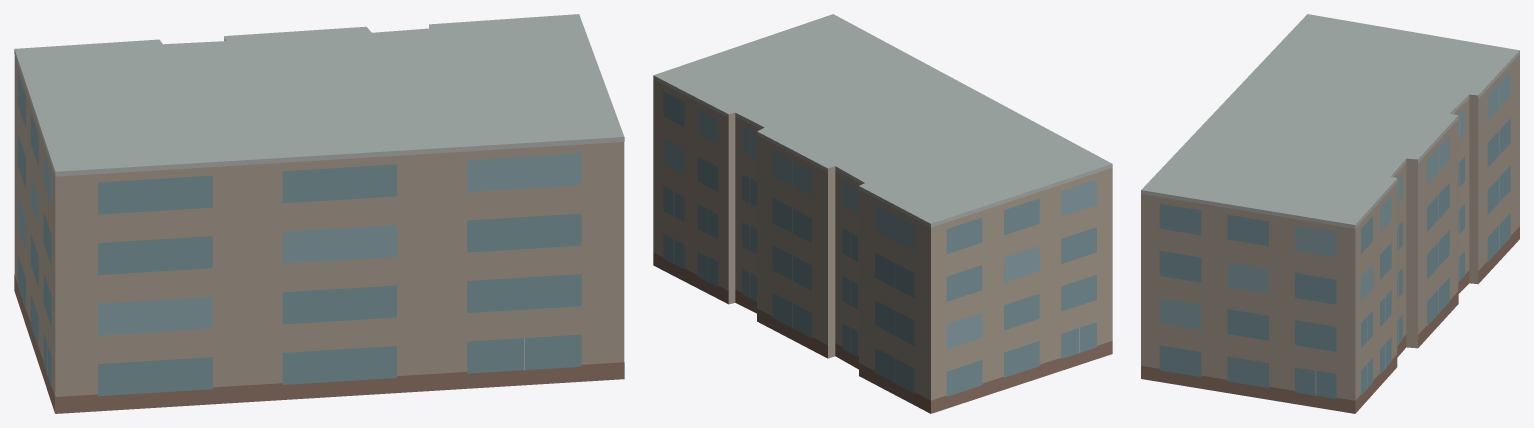
Rendered from survey-upis-32871306.glb.
3 renders of one model, left to right at view 1: azimuth 30°, elevation 25°; view 2: azimuth 150°, elevation 25°; view 3: azimuth 270°, elevation 25°, orthographic. The views are drawn at different scales.
Visible parts, largest first — view 1: survey-upis-32871306.tmp; view 2: survey-upis-32871306.tmp; view 3: survey-upis-32871306.tmp.
Boxes of the visible parts, x1=… form: survey-upis-32871306.tmp: x1=14, y1=14, x2=624, y2=413; survey-upis-32871306.tmp: x1=653, y1=14, x2=1112, y2=413; survey-upis-32871306.tmp: x1=1141, y1=14, x2=1519, y2=413.
Bounding box in the file's own units: 29.01 × 12.1 × 22.01.
